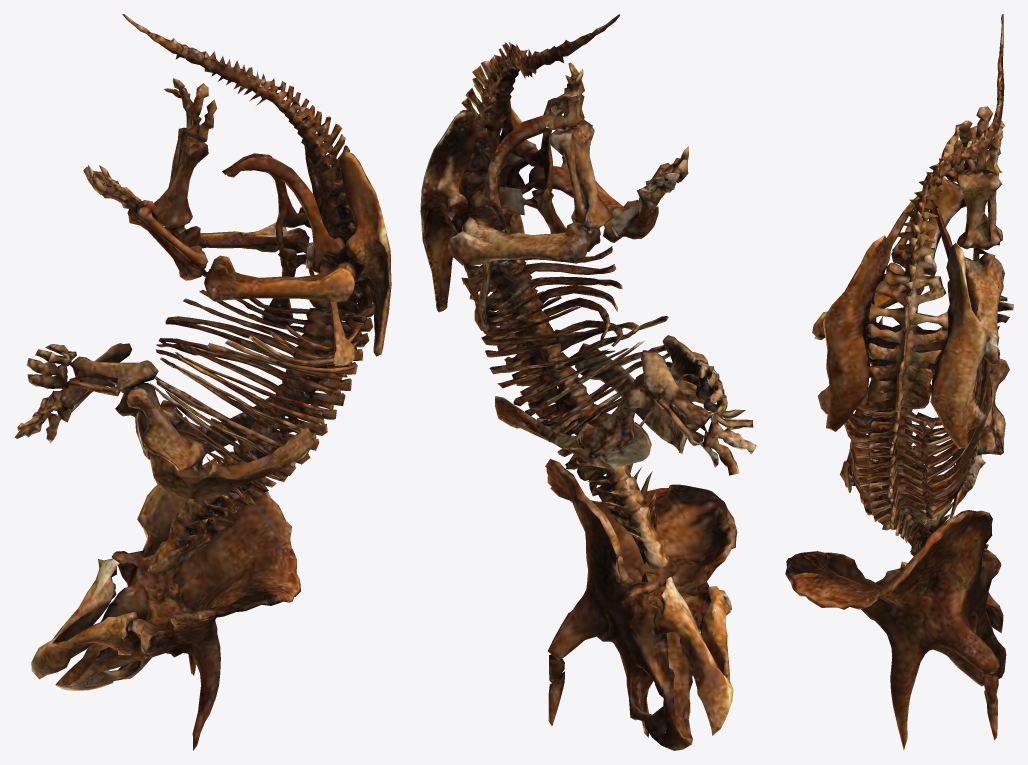
The model's file is Triceratops_20M-20k-512-thumb.glb.
3 views of the same model, side by side, from view 1: azimuth 30°, elevation 25°; view 2: azimuth 150°, elevation 25°; view 3: azimuth 270°, elevation 25° (orthographic). The views are drawn at different scales.
Bounding box in the file's own units: 2.8 × 5.89 × 1.68.
Materials: 1 (1 with a texture image).
